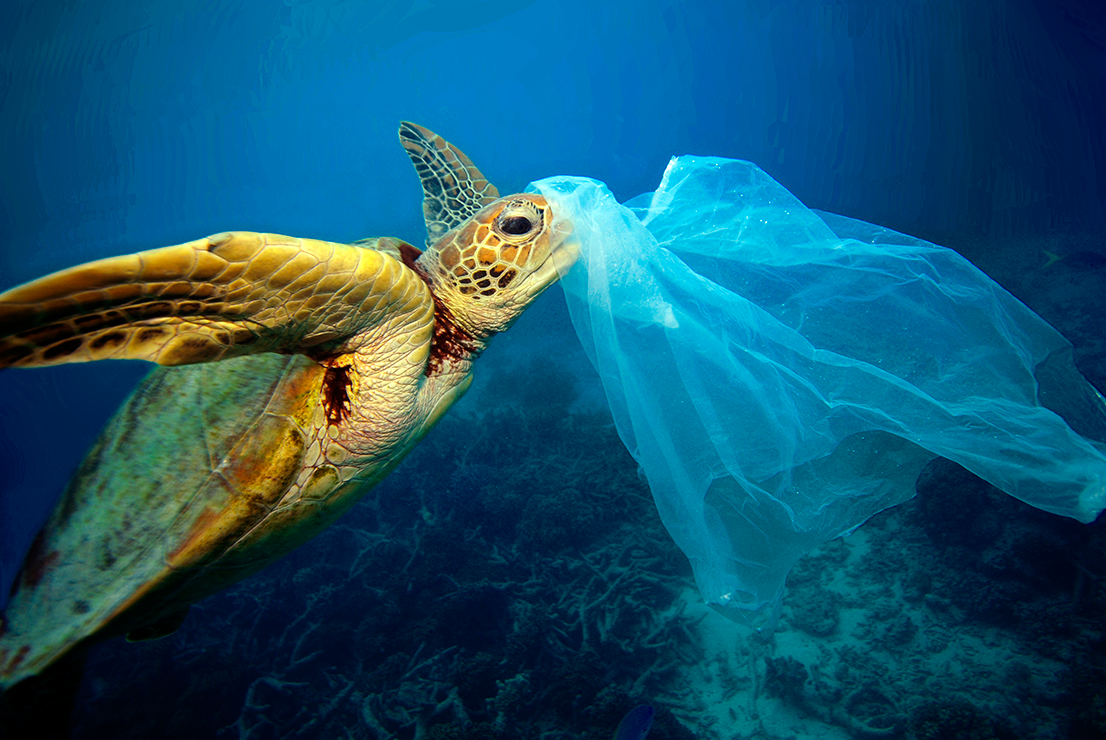plastic_bag: (513, 149, 1106, 635)
